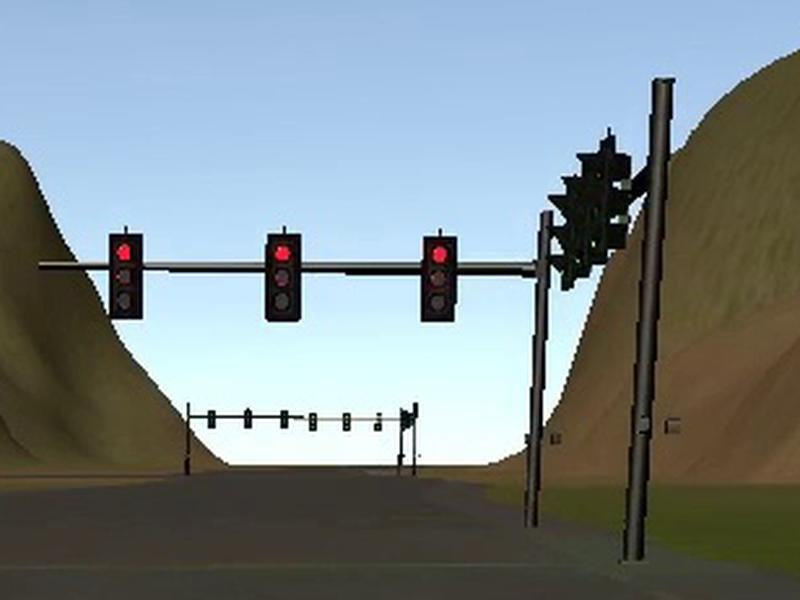Red: (421, 234, 459, 323), (107, 233, 144, 320), (265, 234, 301, 321)
